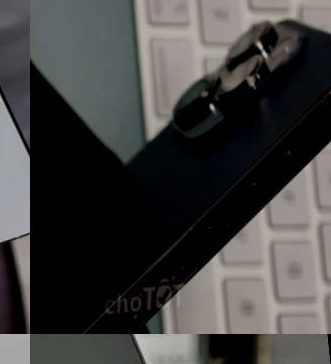scratch: (171, 210, 202, 241)
